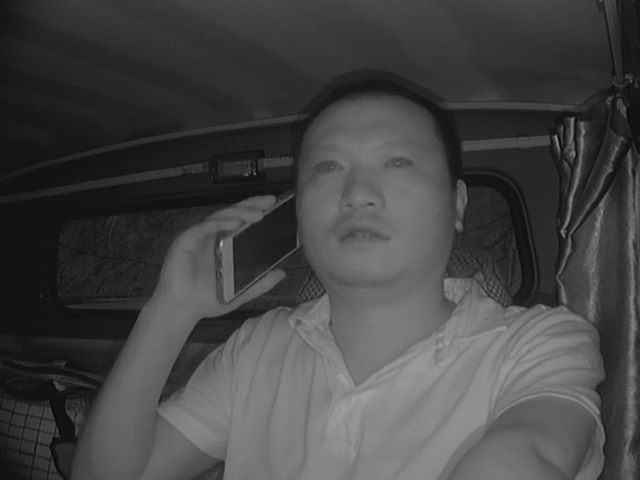hand: (153, 191, 290, 308)
